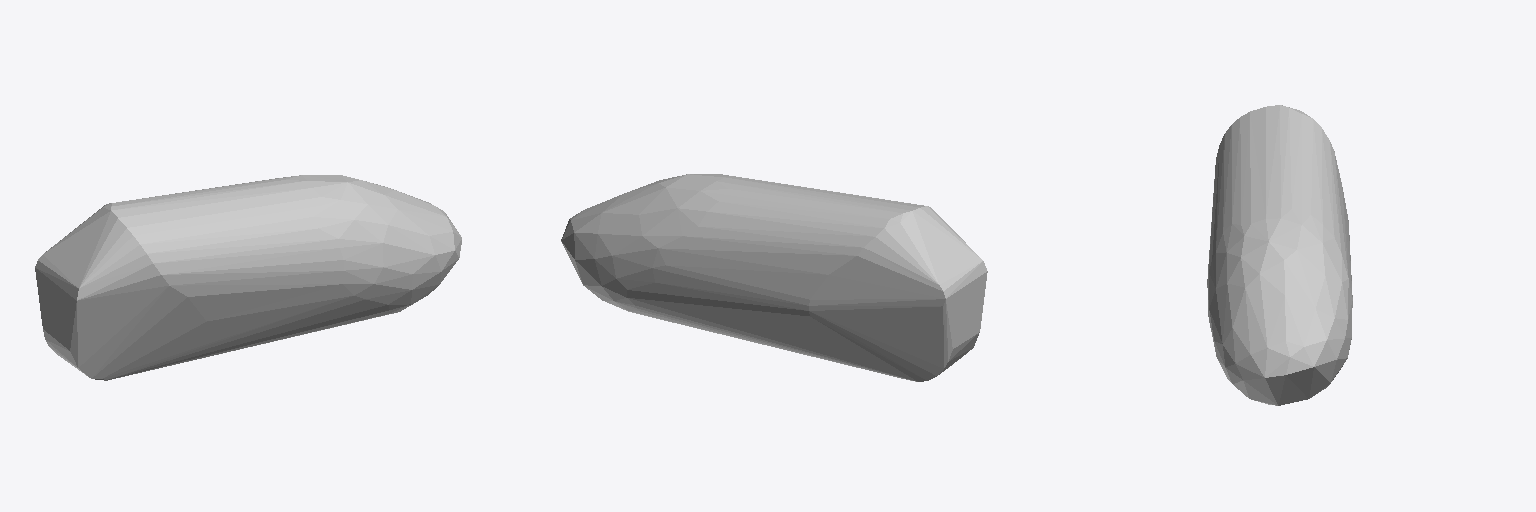
The model's file is thumb-F2.obj.
3 renders of one model, left to right at view 1: azimuth 30°, elevation 25°; view 2: azimuth 150°, elevation 25°; view 3: azimuth 270°, elevation 25°, orthographic.
Visible parts, largest first — view 1: off; view 2: off; view 3: off.
Boxes of the visible parts, x1,y1,x2,y2 form: off: [35, 175, 461, 380]; off: [561, 174, 987, 381]; off: [1207, 105, 1352, 405].
Size of the model in its own units: 0.0793 by 0.0306 by 0.025.